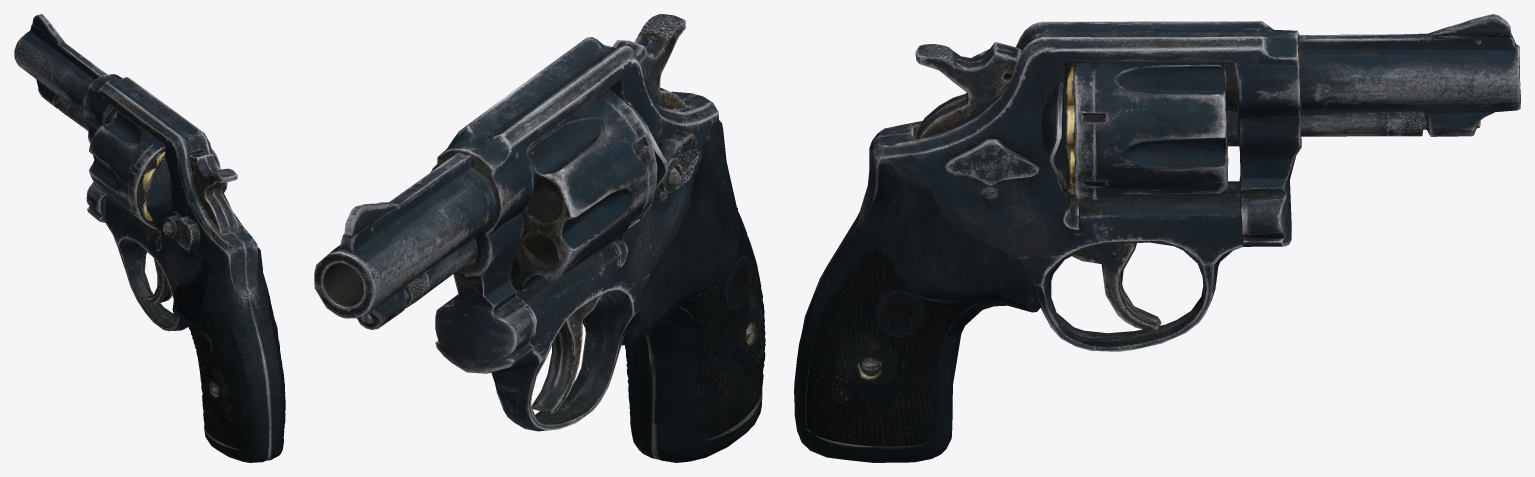
The model's file is snub.glb.
3 views of the same model, side by side, from view 1: azimuth 30°, elevation 25°; view 2: azimuth 150°, elevation 25°; view 3: azimuth 270°, elevation 25° (orthographic). The views are drawn at different scales.
Visible parts, largest first — view 1: body; view 2: body; view 3: body.
Part boxes in pixels (left/top/right/bottom): body: left=14, top=14, right=285, bottom=462; body: left=314, top=14, right=765, bottom=462; body: left=794, top=14, right=1520, bottom=462.
Size of the model in its own units: 0.0347 by 0.1091 by 0.165.
1 material, 1 textured.
